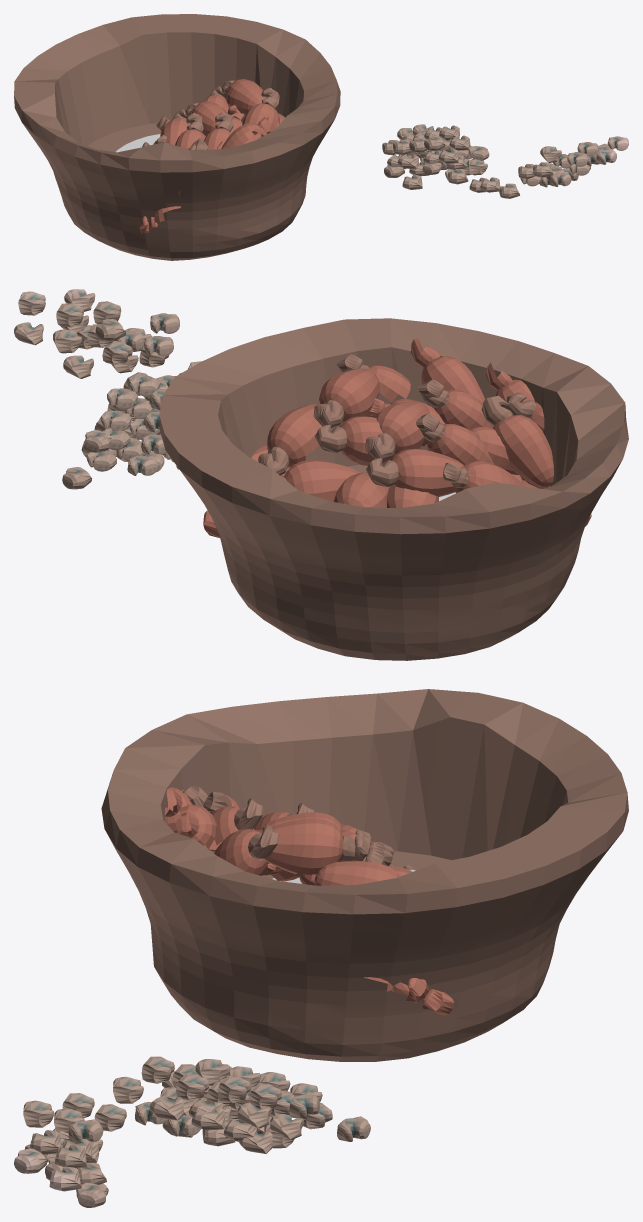
The picture shows the model from 3 angles, top to bottom: view 1: azimuth 30°, elevation 25°; view 2: azimuth 150°, elevation 25°; view 3: azimuth 270°, elevation 25°; orthographic projection. The views are drawn at different scales.
Size of the model in its own units: 2.66 by 0.7446 by 1.77.
